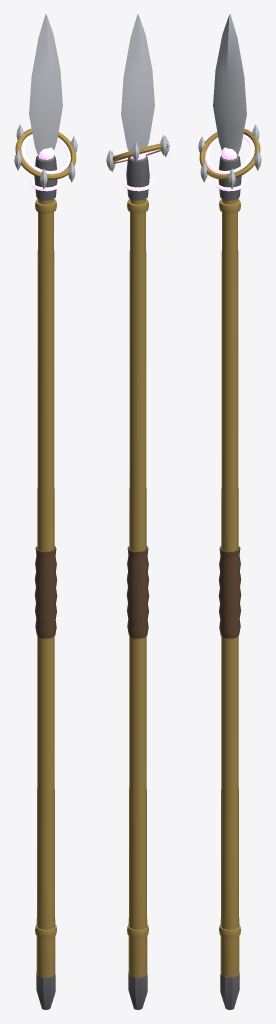
The model's file is esc_w_ranger_spear_8.glb.
3 views of the same model, side by side, from view 1: azimuth 30°, elevation 25°; view 2: azimuth 210°, elevation 25°; view 3: azimuth 330°, elevation 25° (orthographic).
Parts seen in each view (by area): view 1: esc_w_ranger_spear_8; view 2: esc_w_ranger_spear_8; view 3: esc_w_ranger_spear_8.
Part boxes in pixels (x1,y1,x2,y2): esc_w_ranger_spear_8: [14, 14, 77, 1009]; esc_w_ranger_spear_8: [106, 14, 169, 1009]; esc_w_ranger_spear_8: [198, 14, 261, 1009].
Bounding box in the file's own units: 0.1524 × 2.29 × 0.1143.
